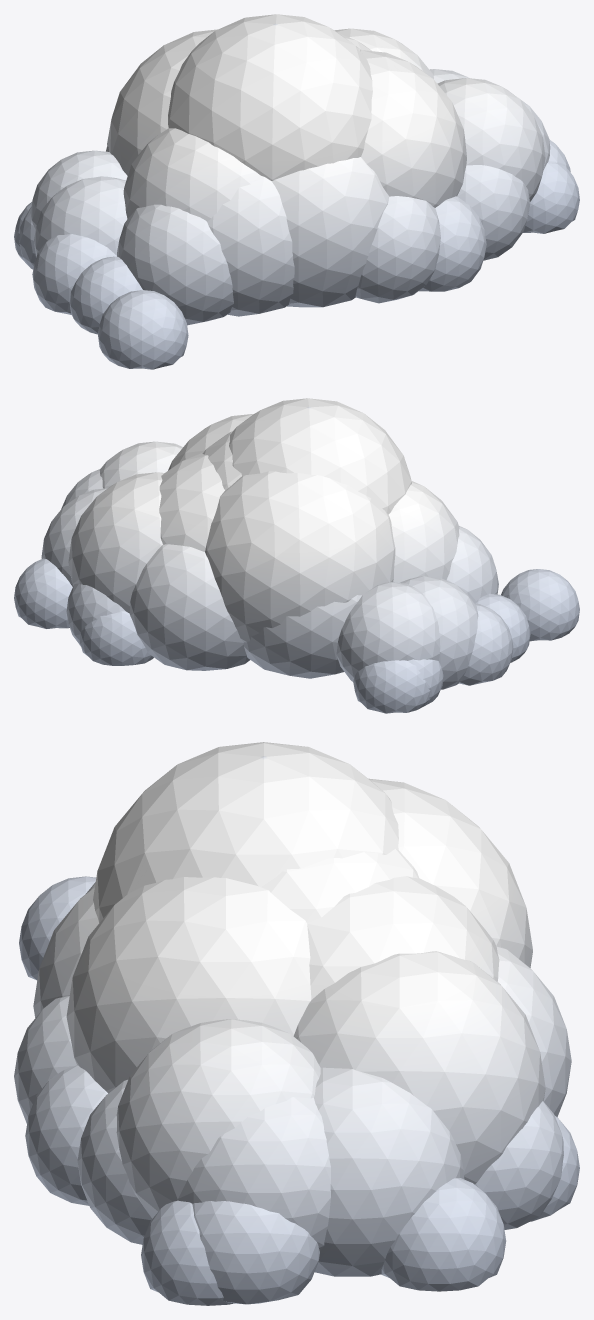
Rendered from Cloud_1.obj.
3 views of the same model, one above another, from view 1: azimuth 30°, elevation 25°; view 2: azimuth 150°, elevation 25°; view 3: azimuth 270°, elevation 25° (orthographic). The views are drawn at different scales.
Visible parts, largest first — view 1: Cloud; view 2: Cloud; view 3: Cloud.
Part boxes in pixels (x1=…): Cloud: x1=14, y1=14, x2=579, y2=369; Cloud: x1=14, y1=398, x2=579, y2=713; Cloud: x1=14, y1=742, x2=579, y2=1305.
Size of the model in its own units: 45.93 by 20.23 by 29.53.
1 material, 1 textured.
